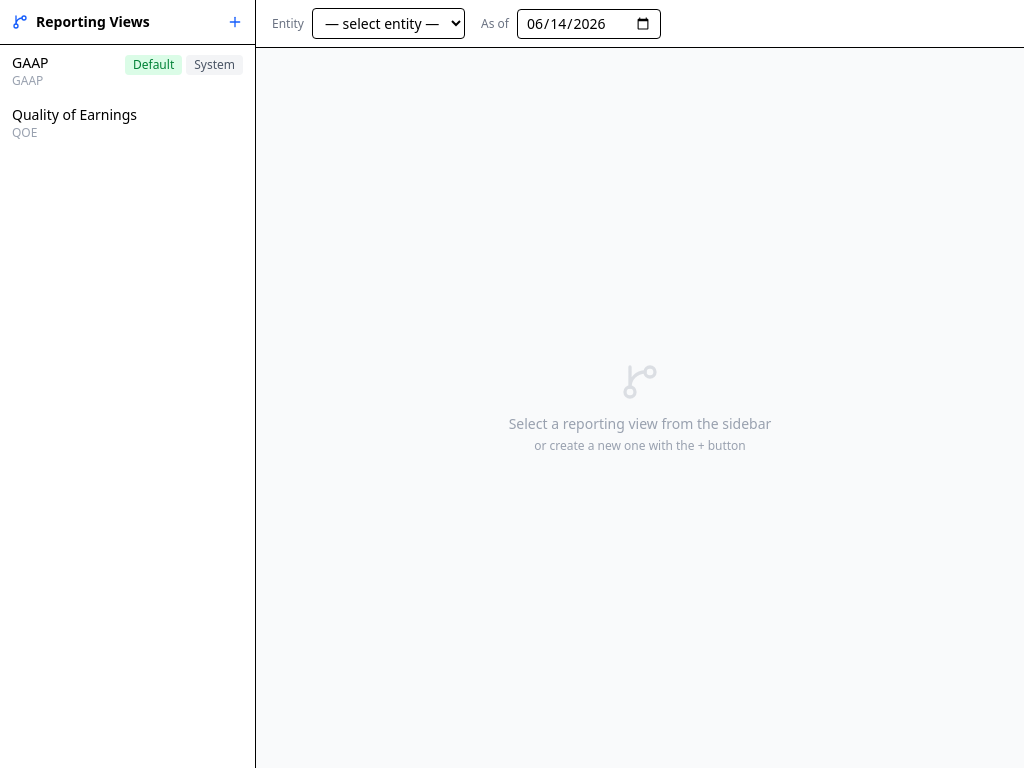
ReportingViewWorkspacePage › shows override editor when entity is selected
Click the element with test id "view-item-1".
click(128, 71)  # box left=0, top=45, right=255, bottom=97
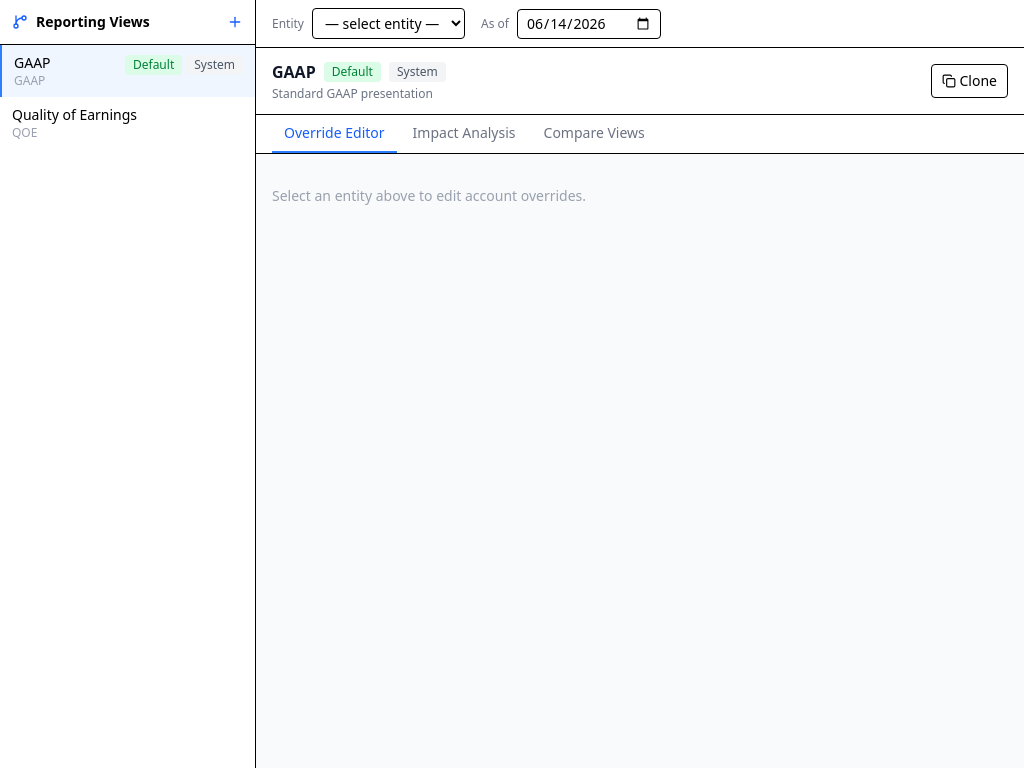
Select "Acme Corp" in the dropdown with test id "entity-select" at {"x": 388, "y": 24}, box left=312, top=8, right=465, bottom=39
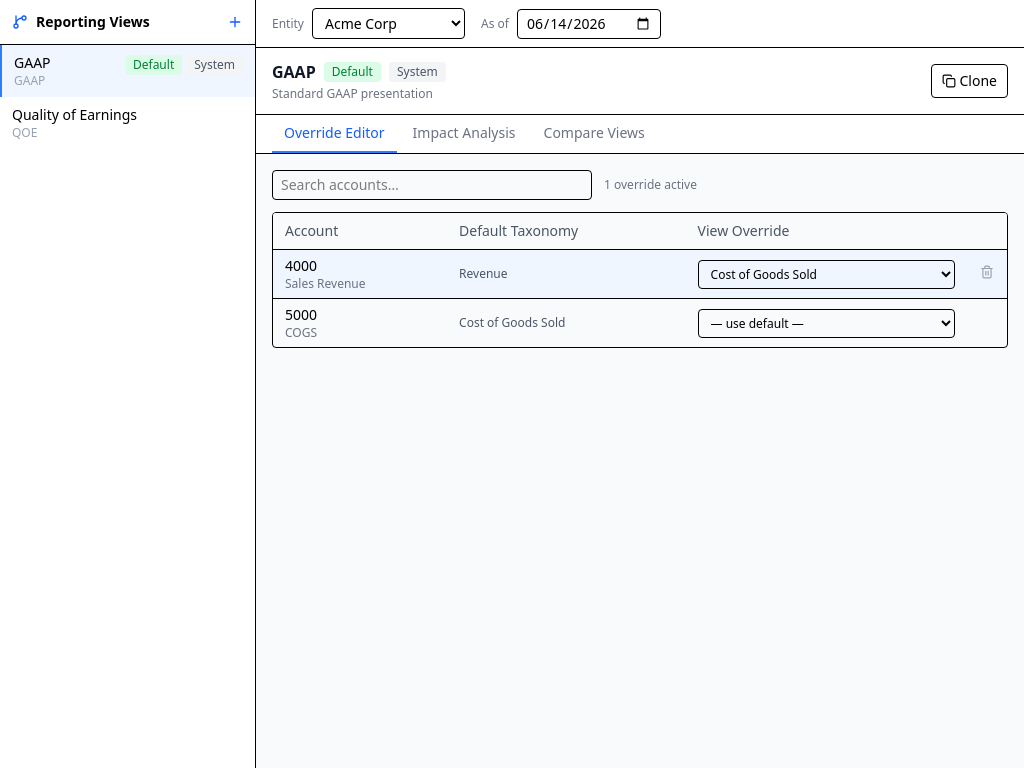
Expected: the element with test id "override-editor" is shown, left=272, top=170, right=1008, bottom=348
